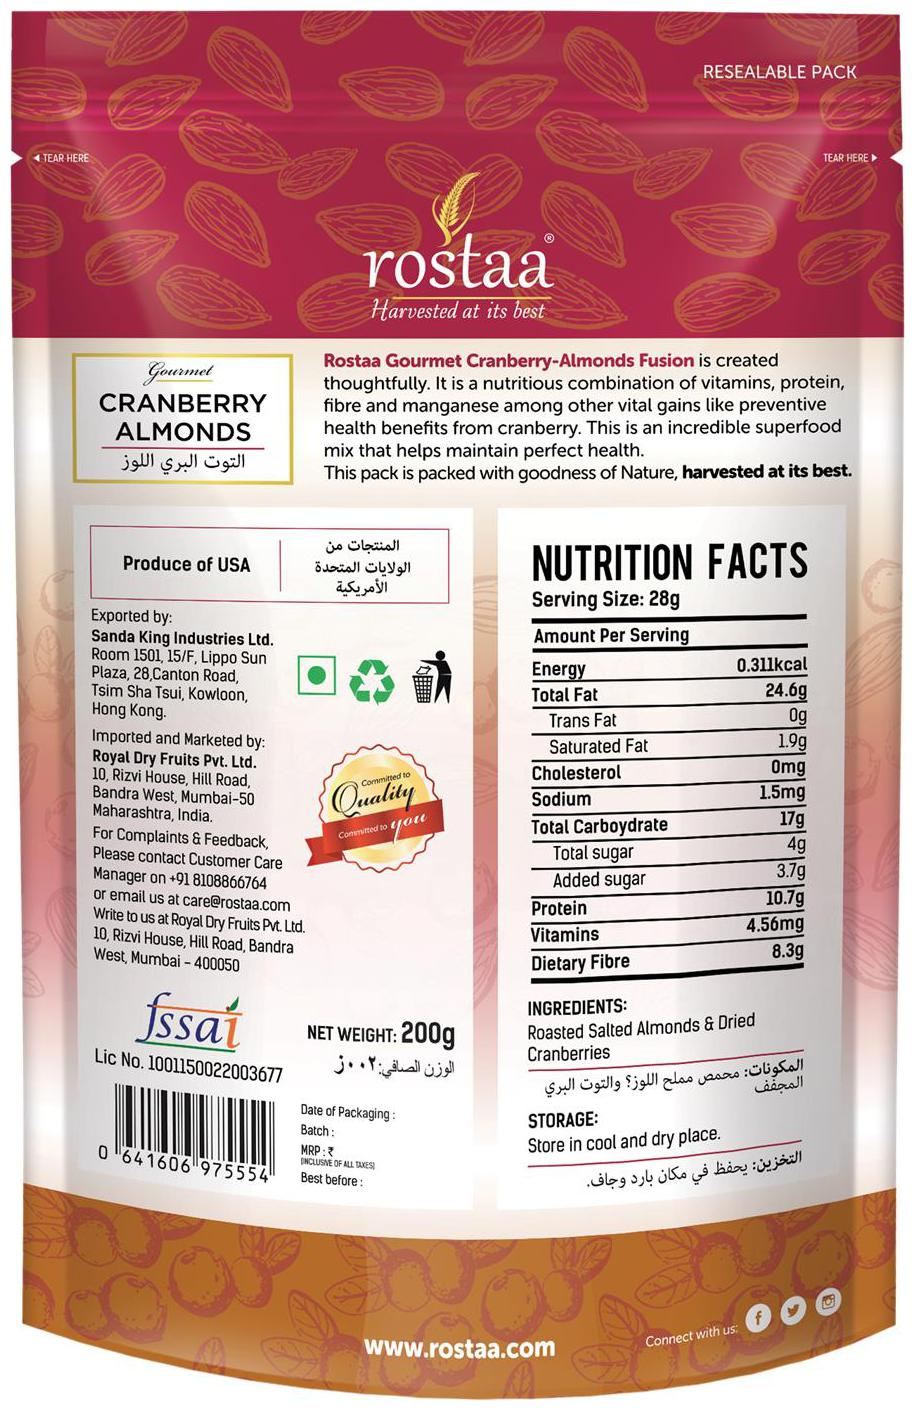fssai: (130, 986, 242, 1050)
